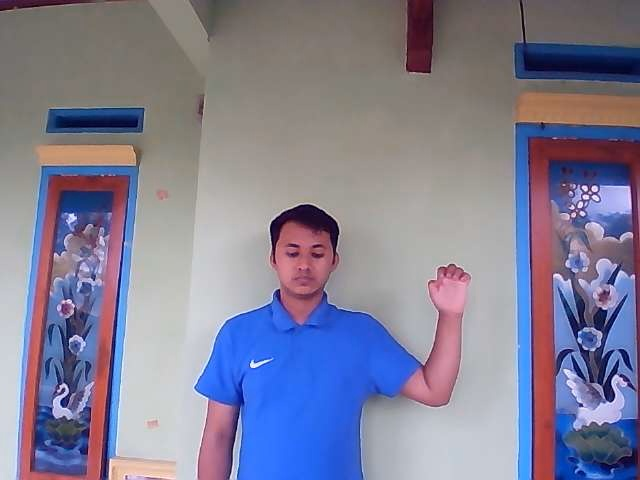E: (427, 262, 471, 315)
